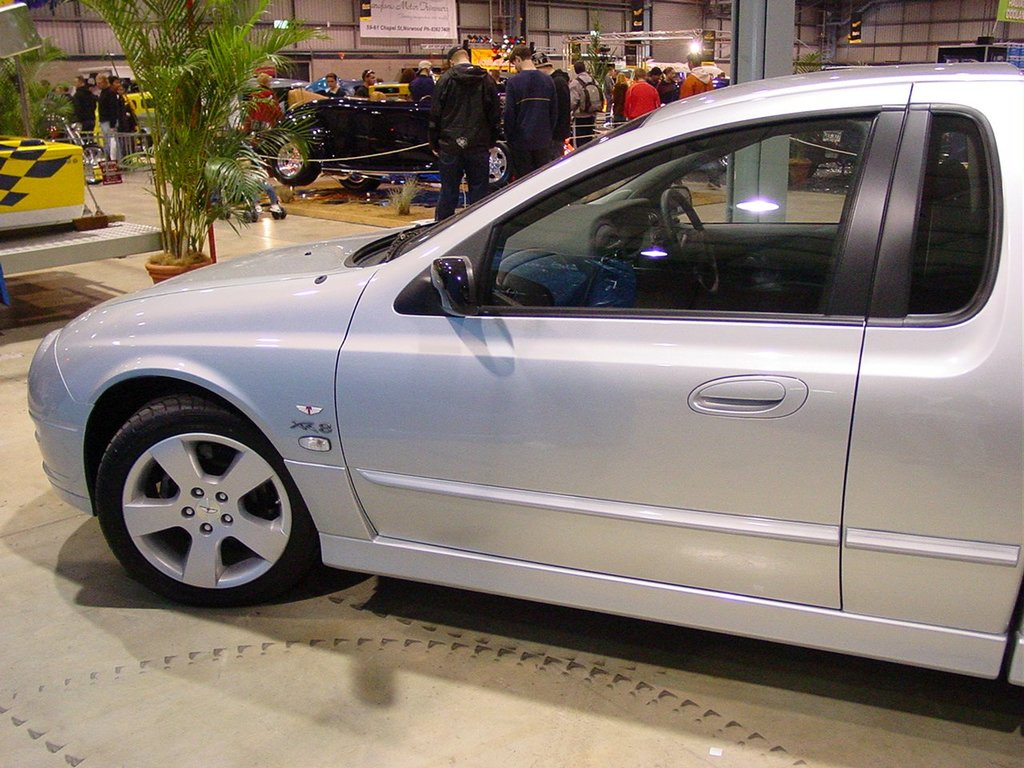Car: (39, 80, 1024, 689), (261, 81, 584, 207)
